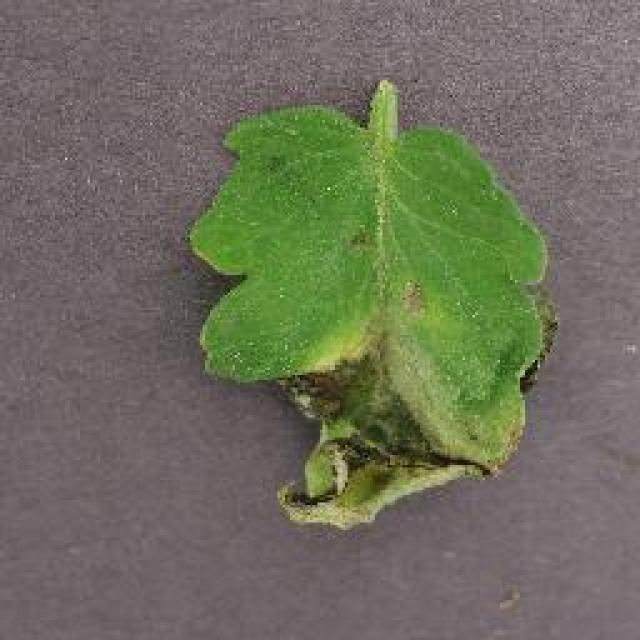Tomato Late Blight: (268, 314, 495, 574)
